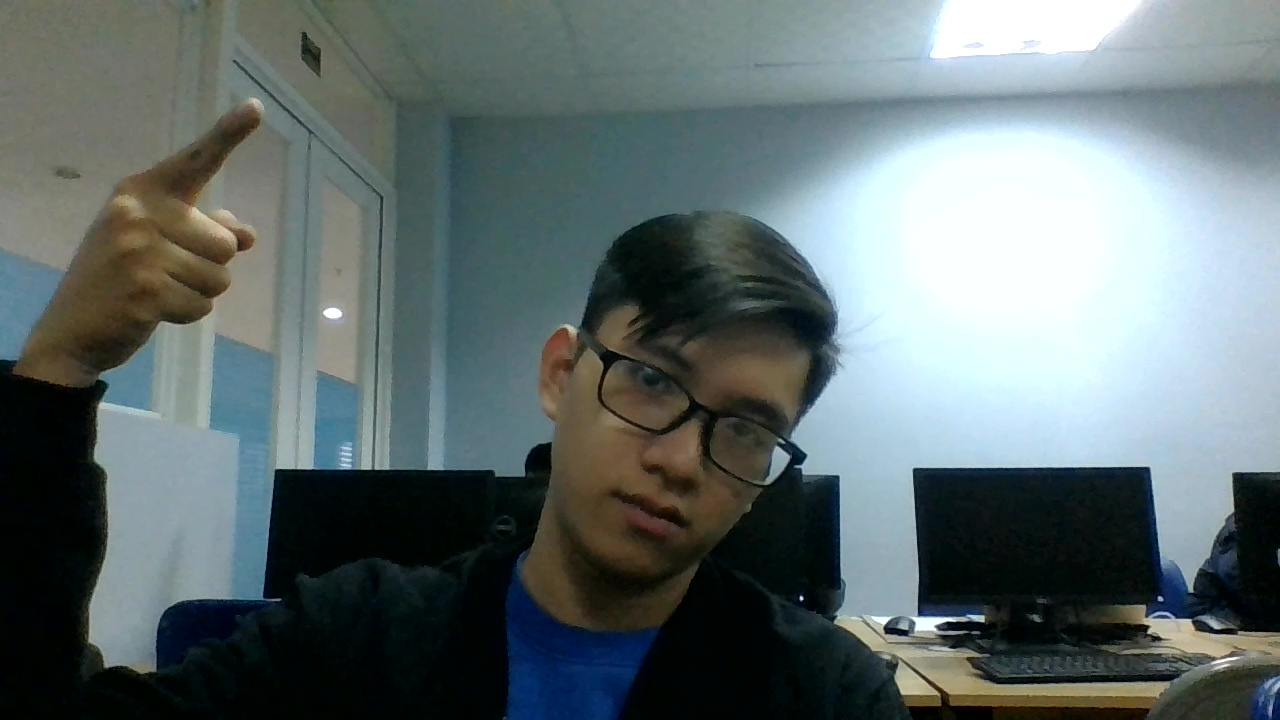left: (64, 91, 277, 382)
